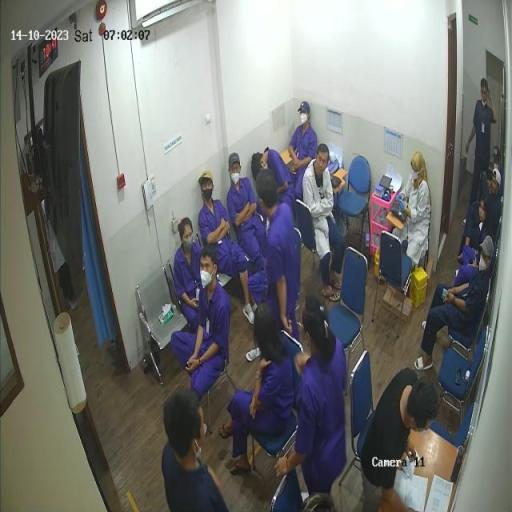person: (277, 297, 349, 500), (220, 303, 295, 475), (363, 367, 440, 512), (417, 236, 495, 376), (199, 172, 259, 328), (172, 247, 230, 400), (164, 387, 231, 512), (256, 170, 301, 349), (303, 144, 347, 300), (228, 153, 269, 283), (397, 153, 431, 276), (466, 78, 498, 204), (456, 197, 495, 290), (175, 218, 206, 333), (462, 169, 503, 253), (290, 102, 318, 200), (253, 149, 295, 211), (493, 148, 503, 168)
